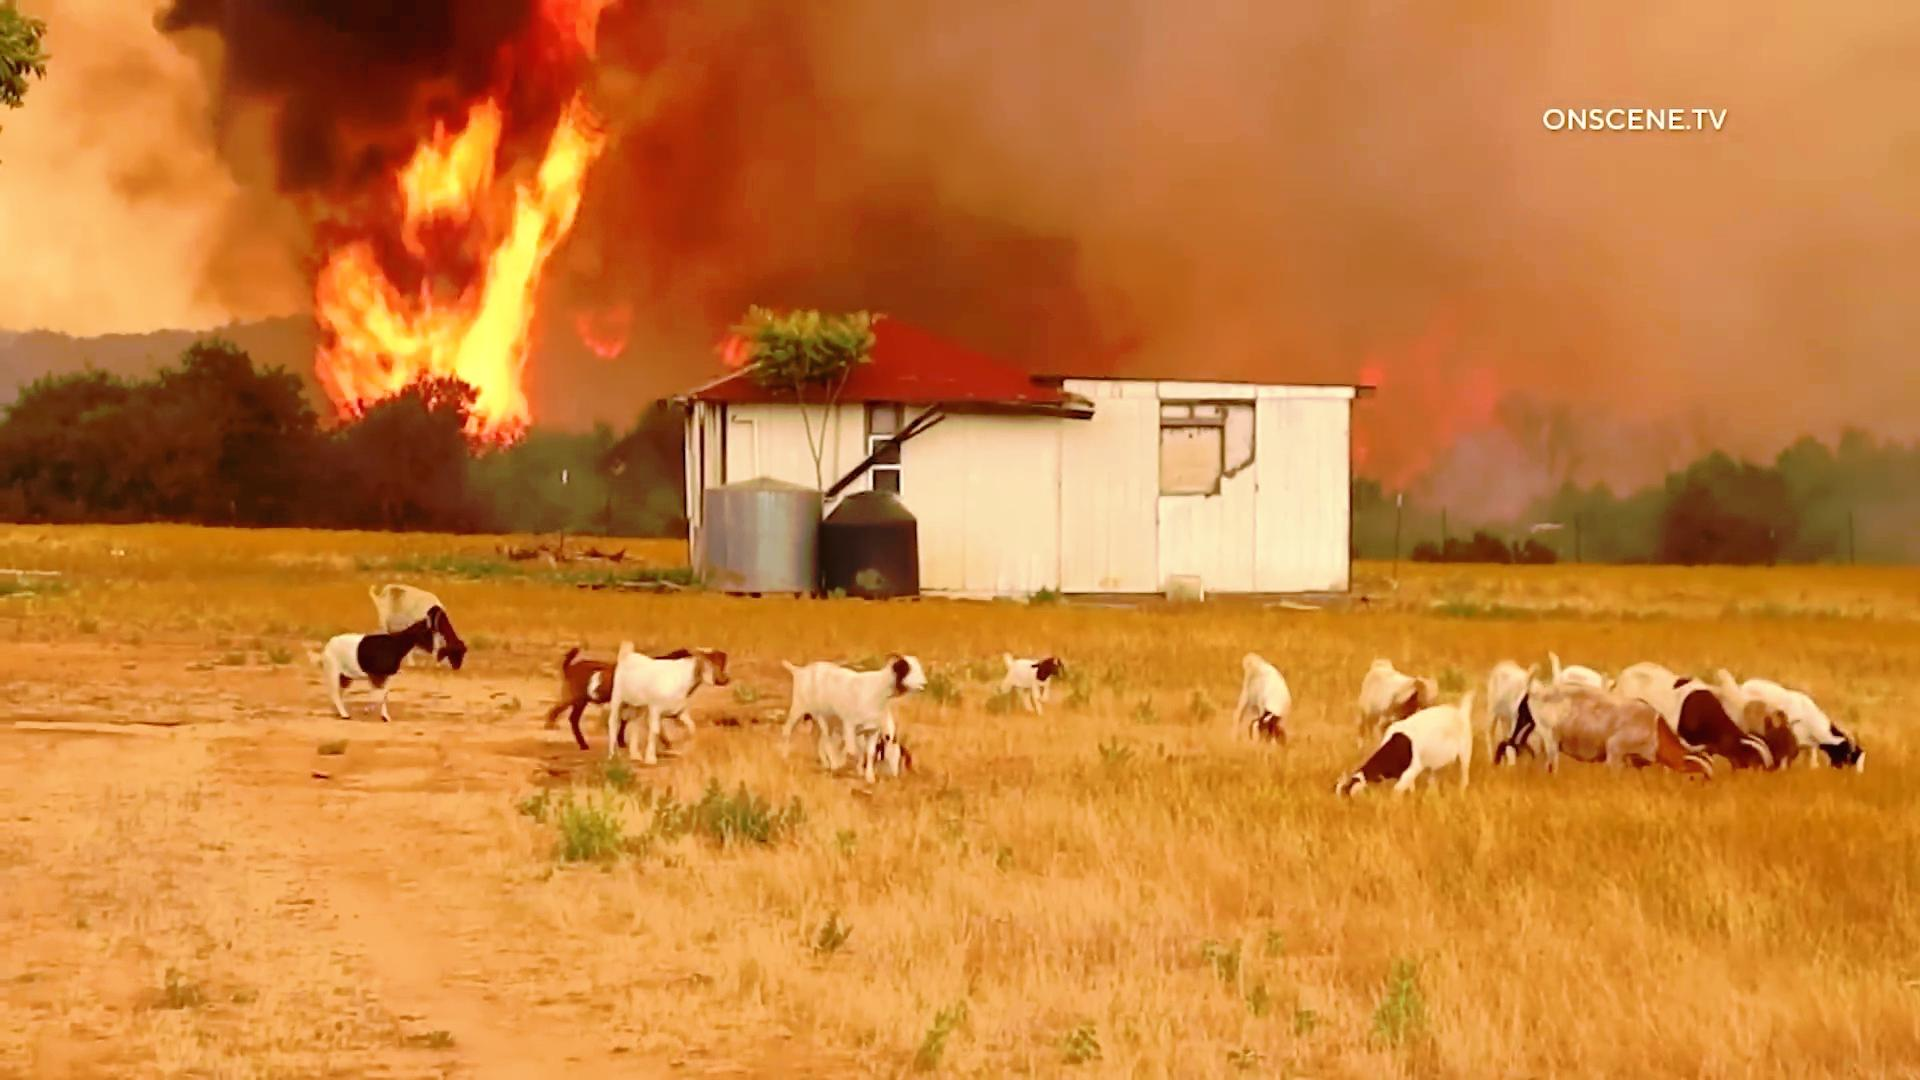fire: (287, 44, 611, 435)
